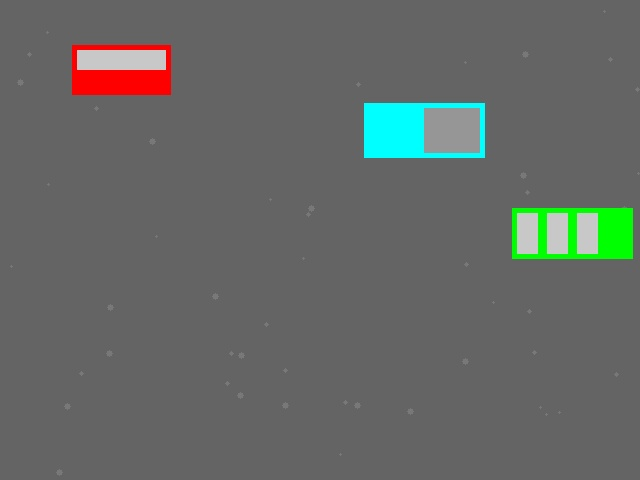bus: (512, 208, 632, 258)
car: (72, 45, 170, 94)
truck: (364, 103, 484, 157)
